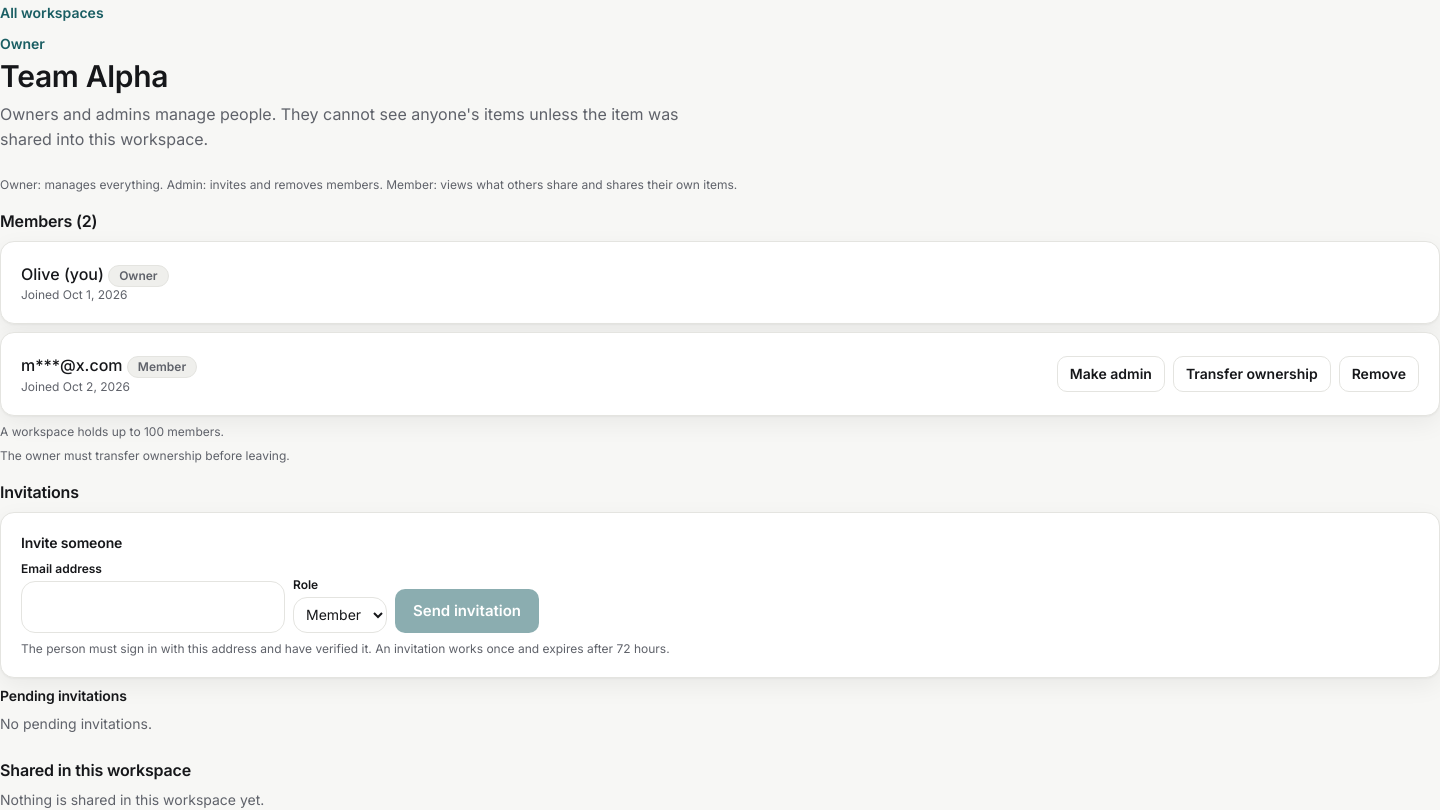
Test case: proposing a transfer › is honest when the notice email was not handed to the provider
Click the button "Transfer ownership" at [1252, 374], box [1173,356,1331,392]
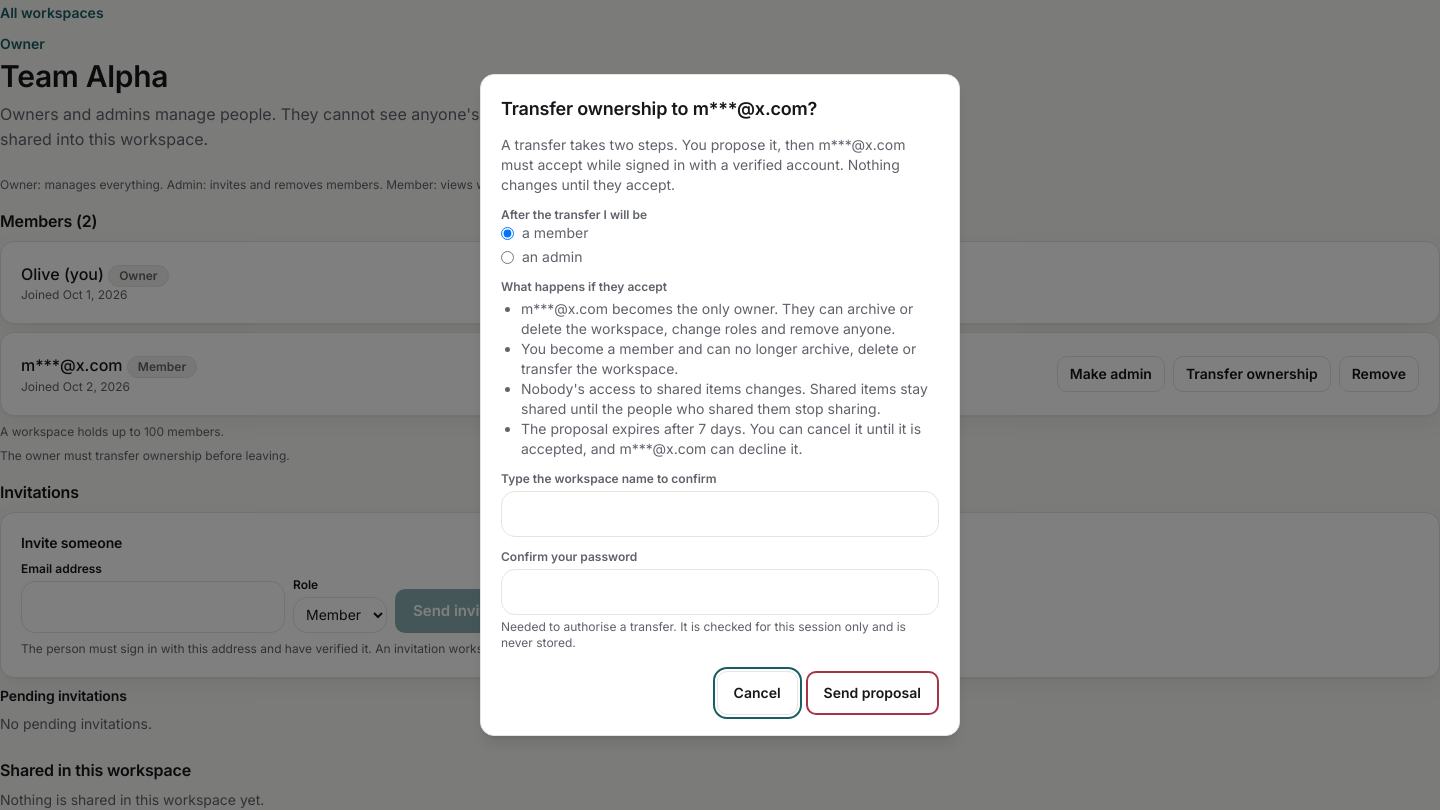
Type "Team Alpha" into the field labelled "Type the workspace name to confirm" at [720, 514], box [501,491,939,537]
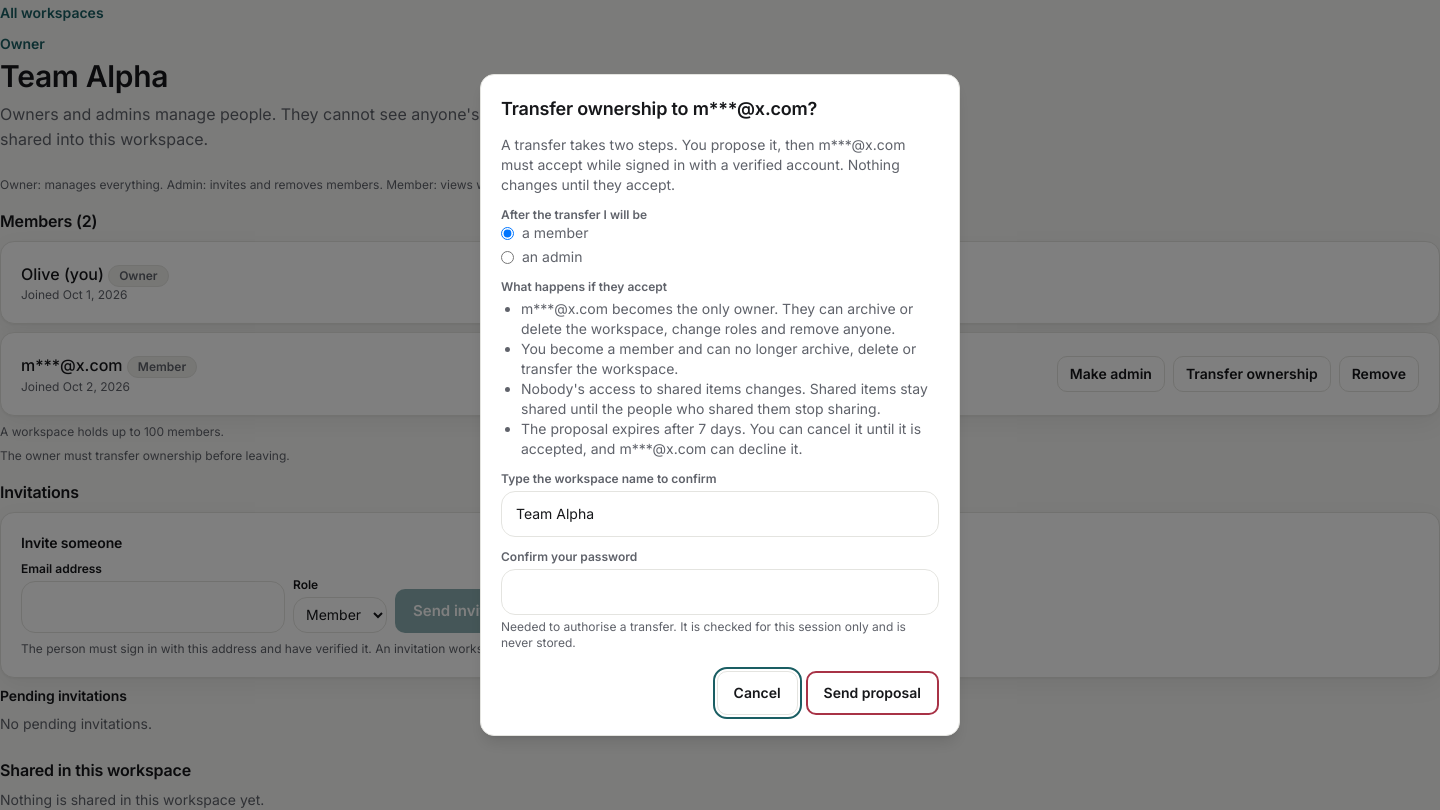
Type "secret-pw" into the password field labelled "Confirm your password" at [720, 592], box [501,569,939,615]
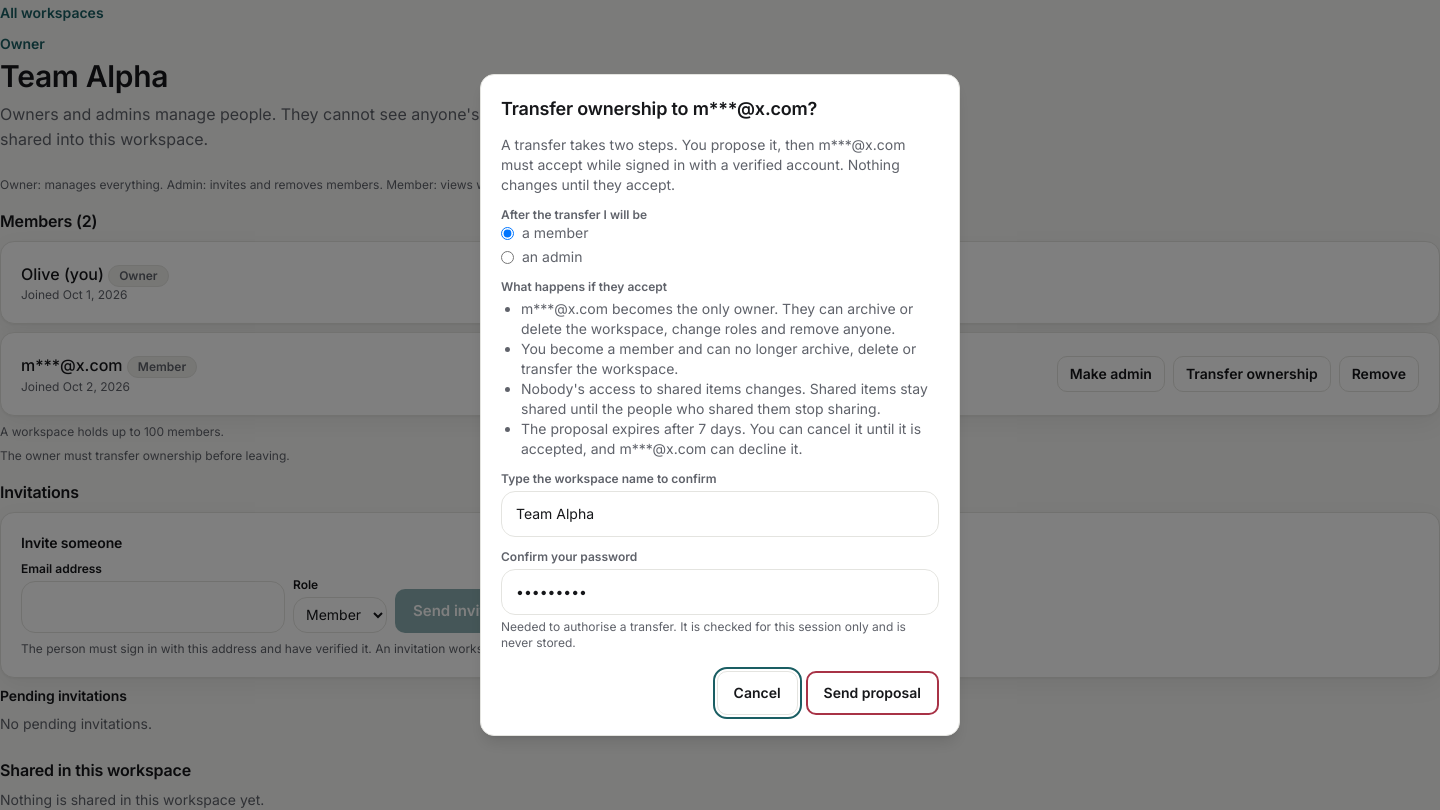
Click the button "Send proposal" at [872, 693], box [806,671,939,715]
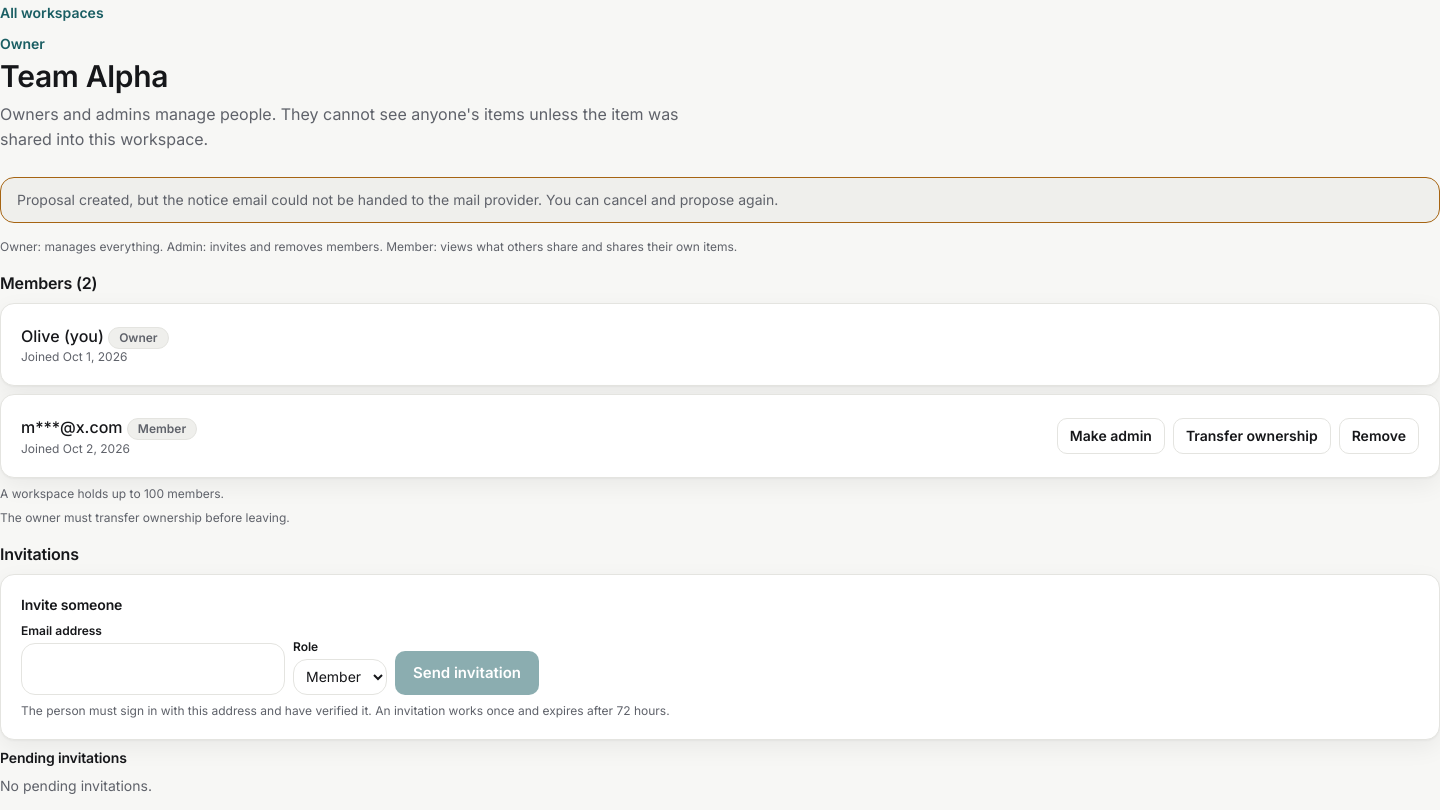
Now the text "Proposal created, but the notice email could not be handed to the mail provider. You can cancel and propose again." is shown, box [17,191,778,208]
